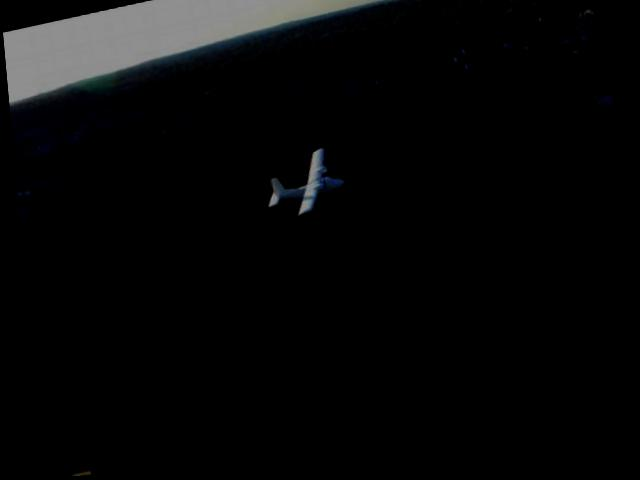uav: (253, 147, 346, 231)
